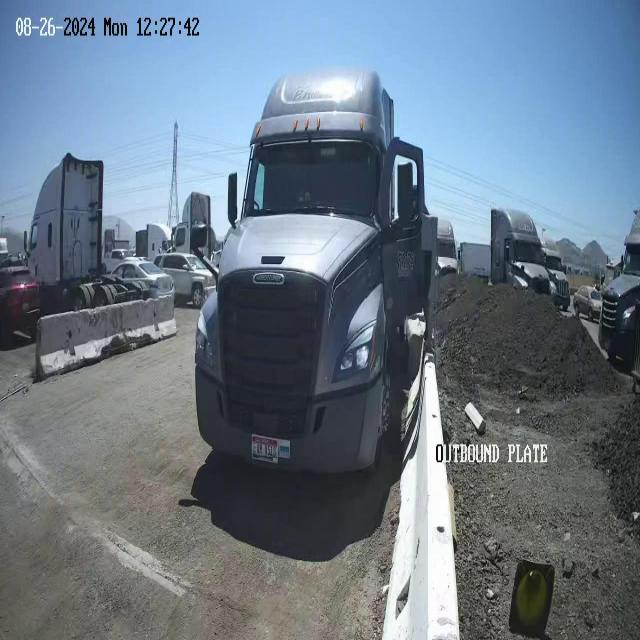TRUCK_OUT: (194, 66, 439, 479)
